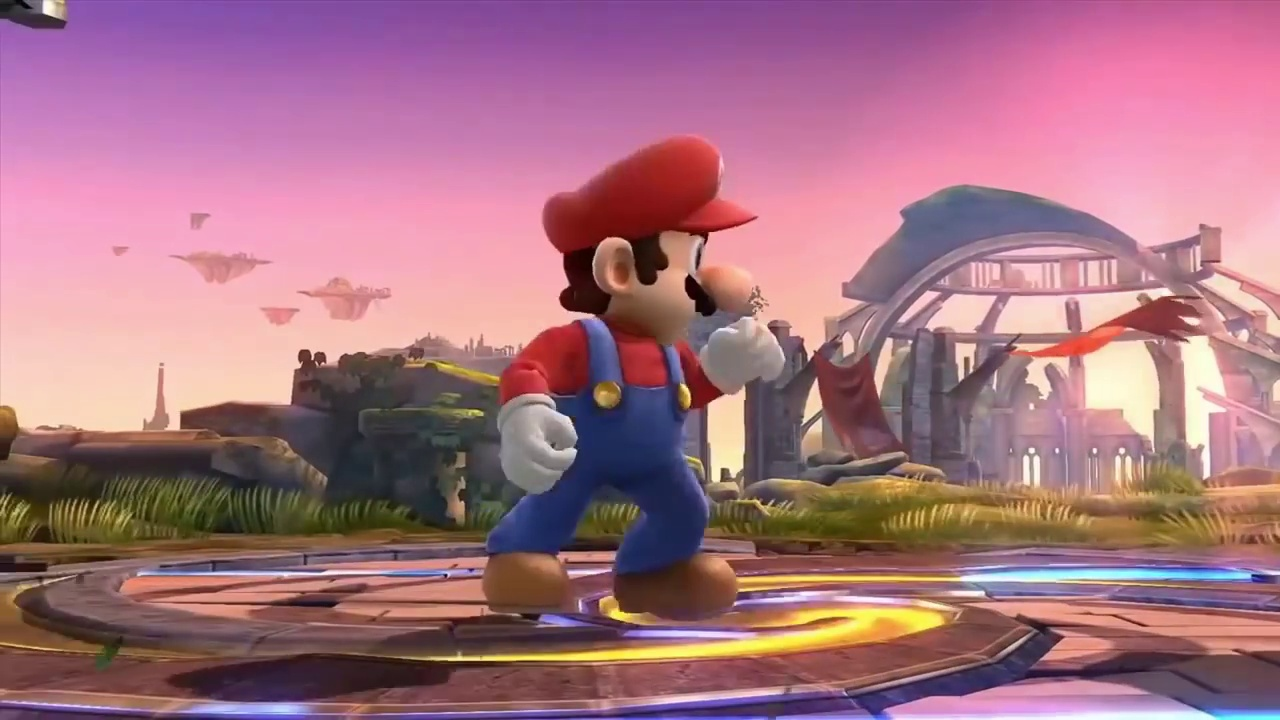Mario: (482, 134, 784, 625)
